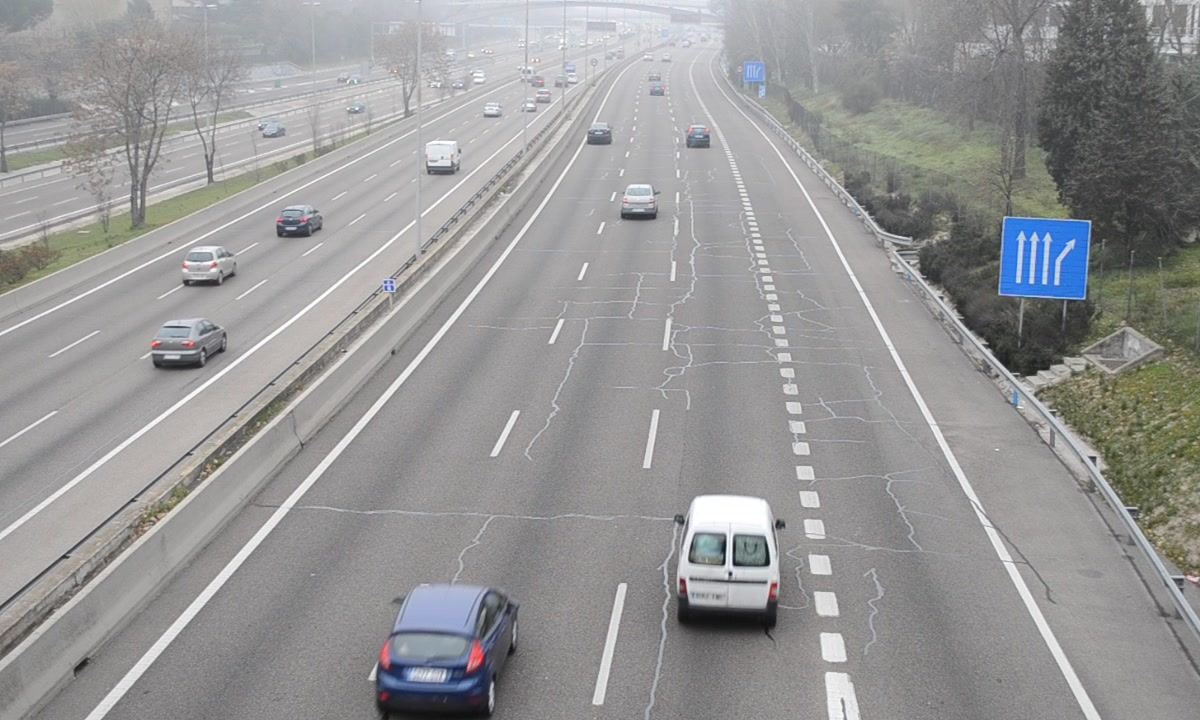car: (376, 586, 516, 714), (621, 184, 656, 217), (586, 122, 613, 147), (687, 123, 711, 148)
van: (678, 494, 780, 624)
